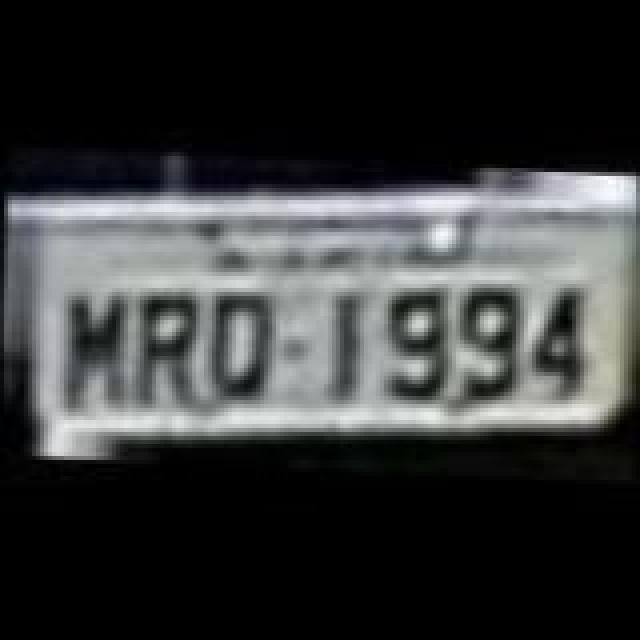1: (318, 290, 374, 410)
4: (528, 282, 596, 398)
9: (378, 284, 458, 412), (446, 286, 526, 410)
M: (58, 290, 138, 414)
Q: (206, 288, 278, 408)
R: (130, 294, 210, 414)
